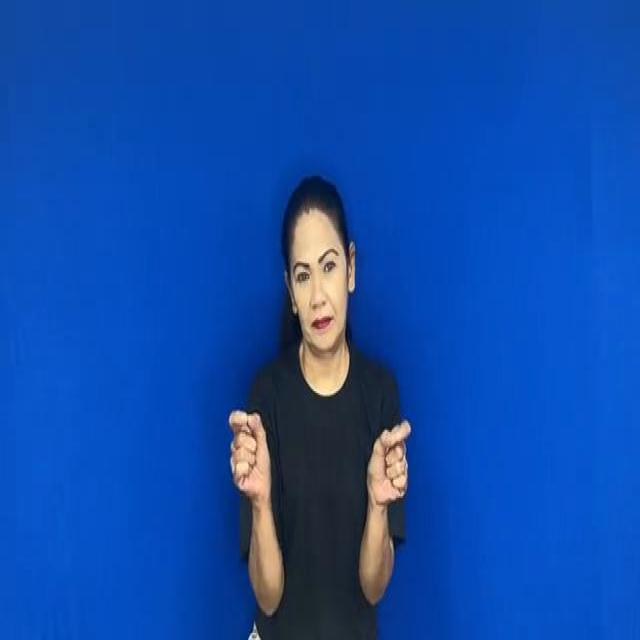crab: (357, 410, 421, 510), (226, 399, 278, 505)
